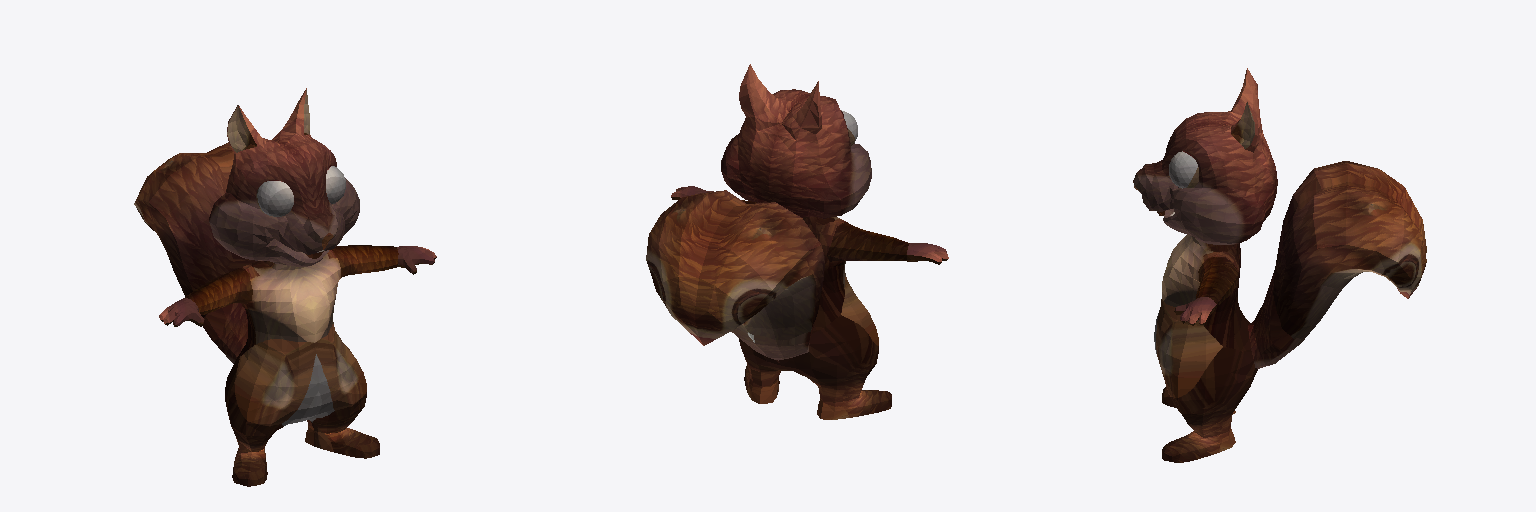
3 views of the same model, side by side, from view 1: azimuth 30°, elevation 25°; view 2: azimuth 150°, elevation 25°; view 3: azimuth 270°, elevation 25° (orthographic).
Visible parts, largest first — view 1: object_0; view 2: object_0; view 3: object_0.
Part boxes in pixels (x1,y1,x2,y2): object_0: (134,88,436,486); object_0: (646,64,948,419); object_0: (1133,68,1426,462).
Bounding box in the file's own units: 20.33 × 24.46 × 18.92.
Materials: 1 (1 with a texture image).